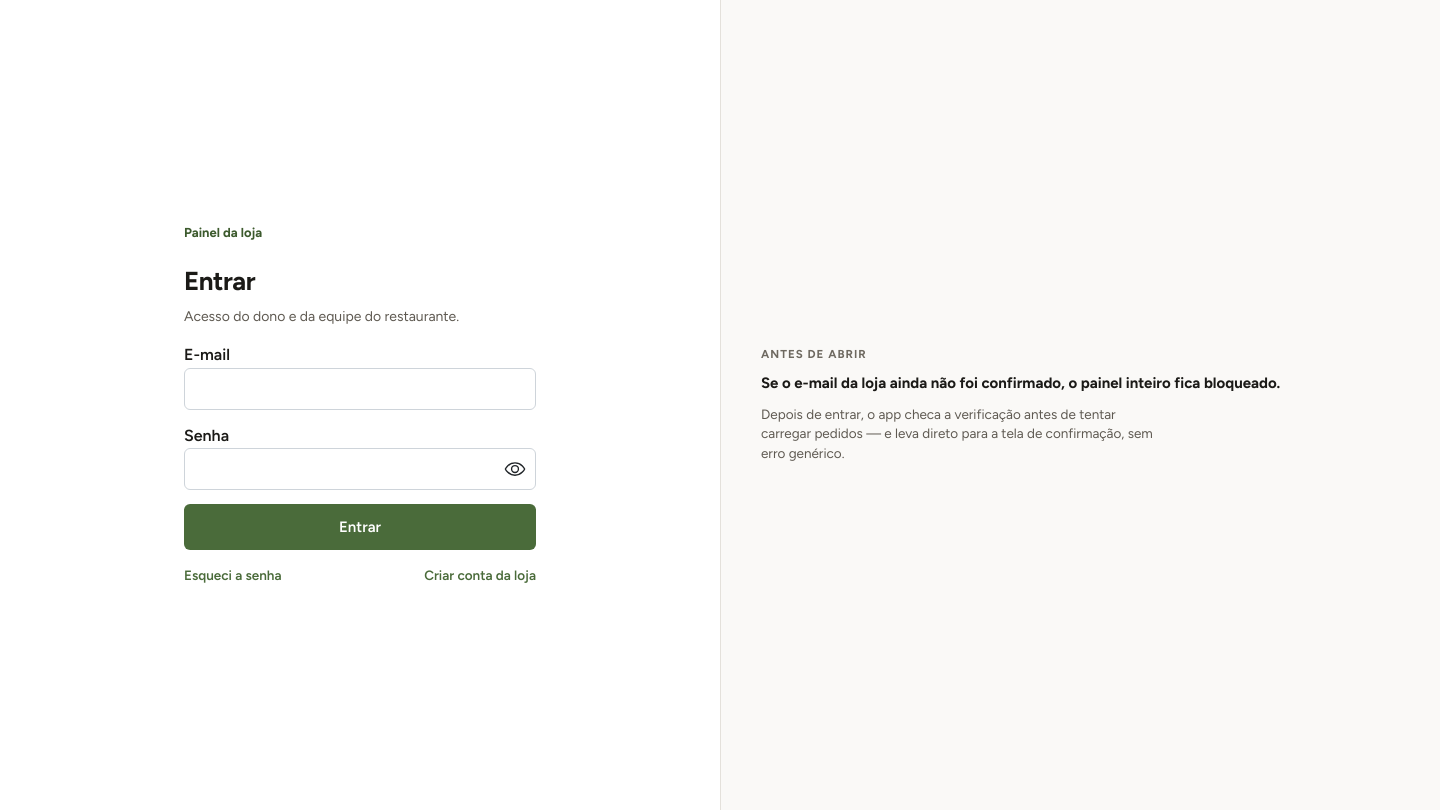
Scenario: LoginPage › não envia com campo vazio
The image size is (1440, 810).
Click the button "Entrar": (360, 527) [184, 504, 536, 550]
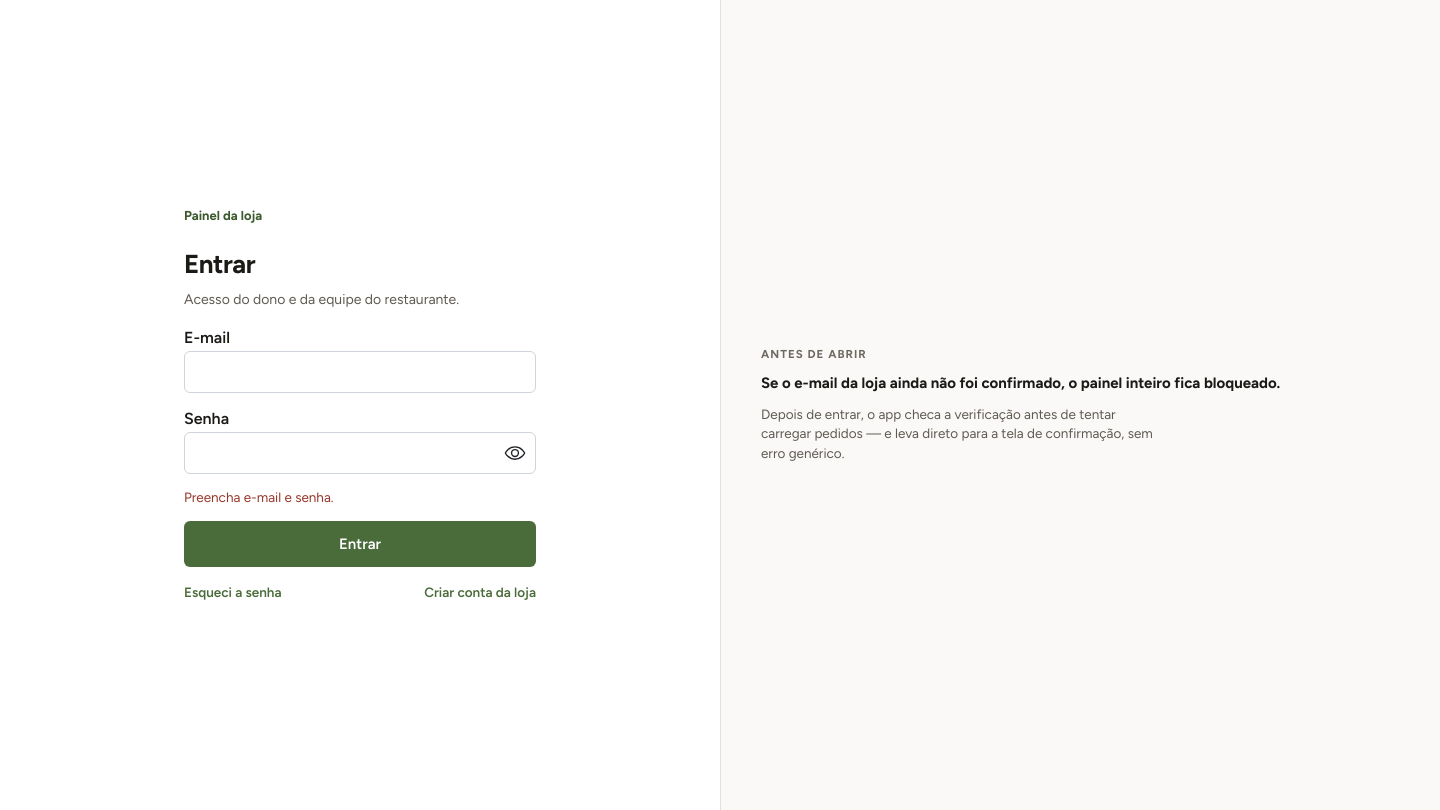
Expected: the text "Preencha e-mail e senha." is shown, [184, 489, 334, 505]
